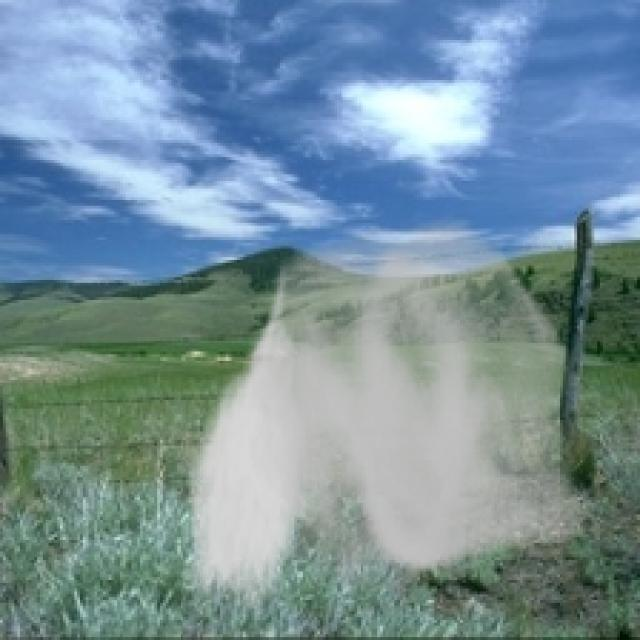smoke: (180, 209, 589, 620)
